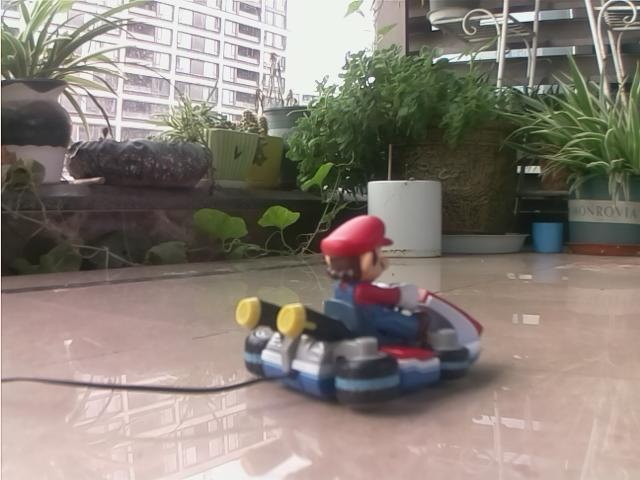mario: (226, 211, 501, 423)
